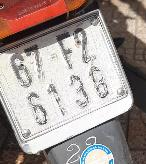1: (41, 80, 71, 123)
2: (71, 20, 101, 66)
3: (65, 70, 97, 117)
6: (22, 87, 55, 133), (6, 47, 37, 93)
7: (22, 40, 54, 88)
8: (87, 63, 115, 105)
F: (52, 27, 81, 74)
